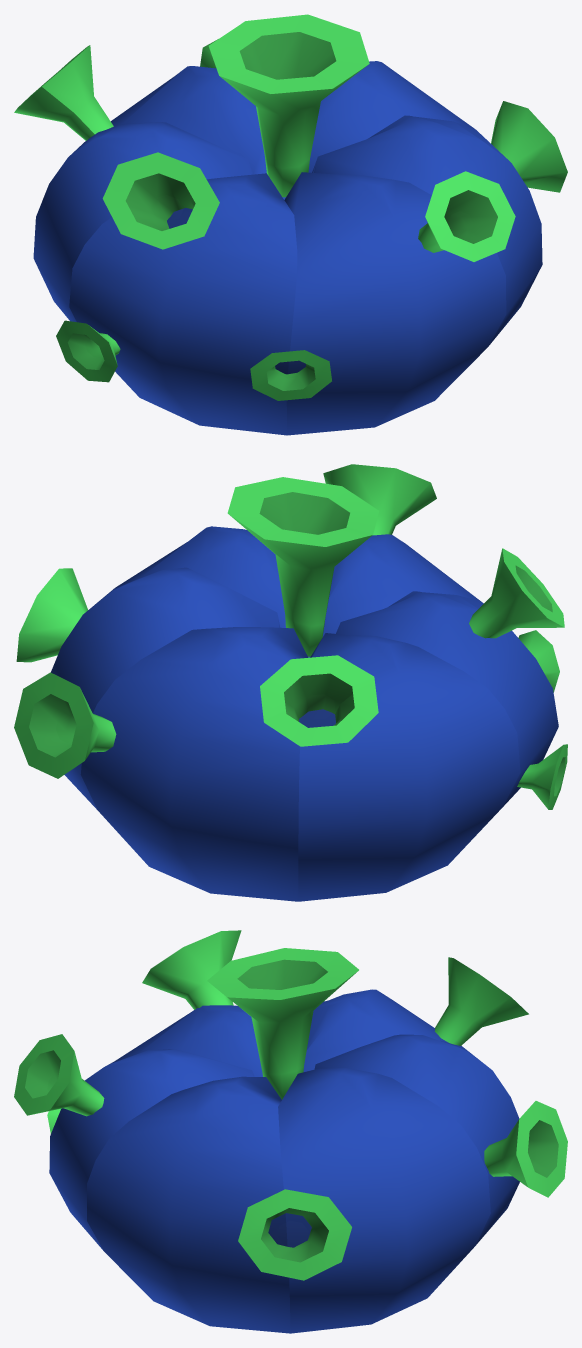
The model's file is peyote.fbx.
The picture shows the model from 3 angles, top to bottom: view 1: azimuth 30°, elevation 25°; view 2: azimuth 150°, elevation 25°; view 3: azimuth 270°, elevation 25°; orthographic projection. The views are drawn at different scales.
Parts seen in each view (by area): view 1: peyote; view 2: peyote; view 3: peyote.
Boxes of the visible parts, bbox=[...] form: peyote: bbox=[14, 14, 567, 435]; peyote: bbox=[14, 464, 567, 901]; peyote: bbox=[14, 930, 567, 1333].
Bounding box in the file's own units: 33.16 × 20.49 × 34.37.
